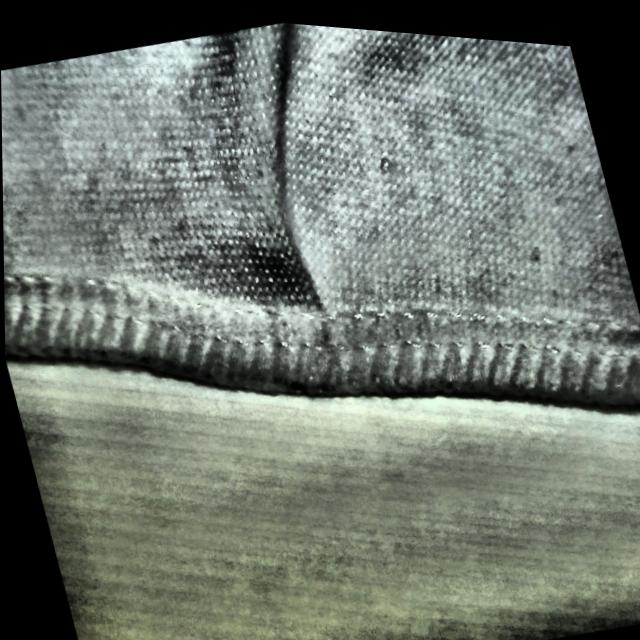seam: (164, 59, 400, 420)
